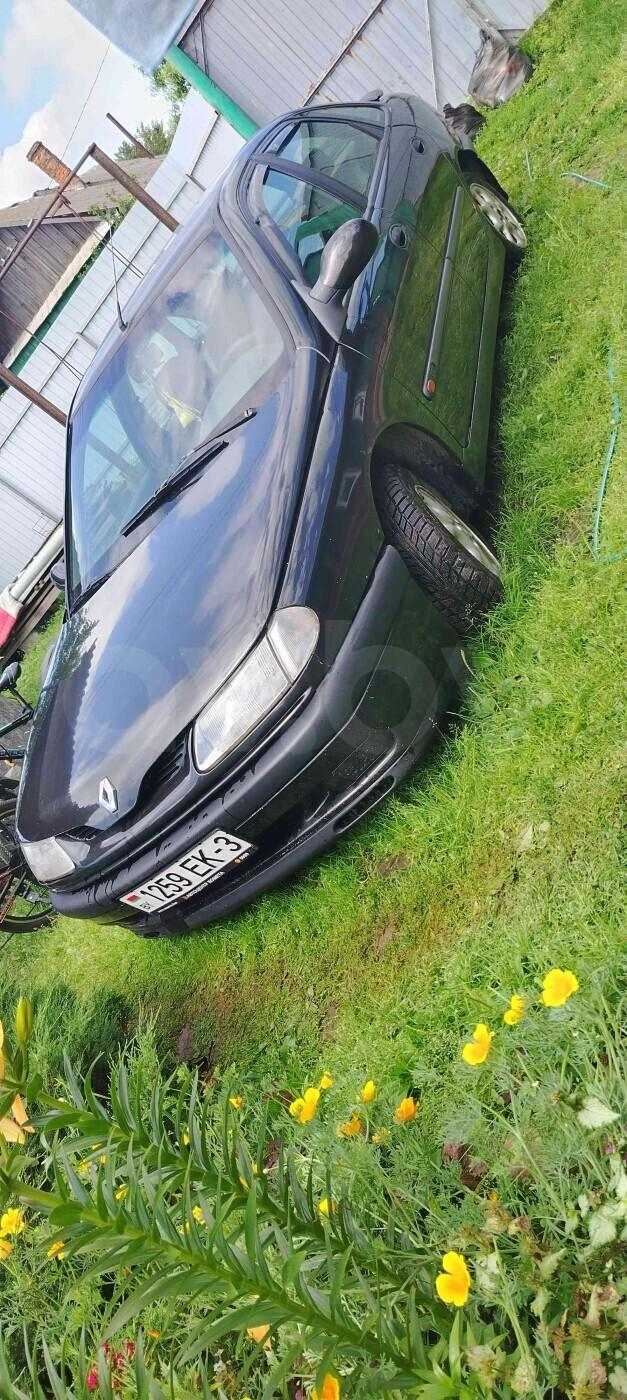Lahuna_1993-1999: (0, 86, 530, 934)
